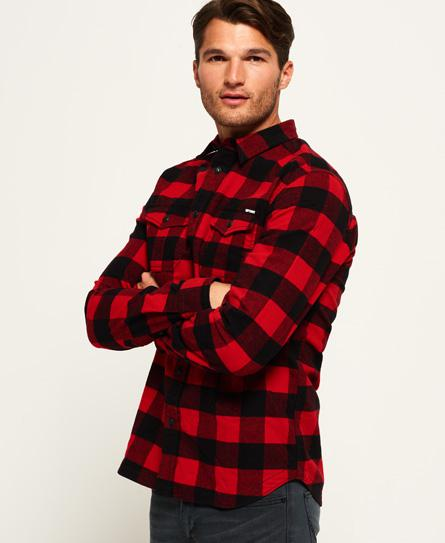teeshirt: (74, 120, 357, 513)
